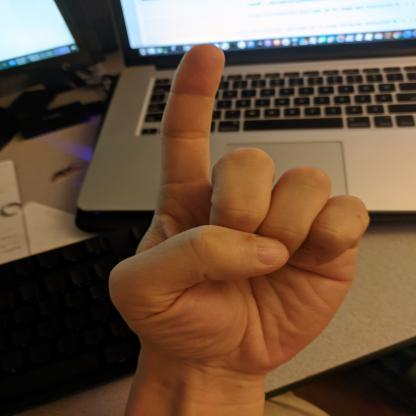D: (103, 38, 378, 382)
